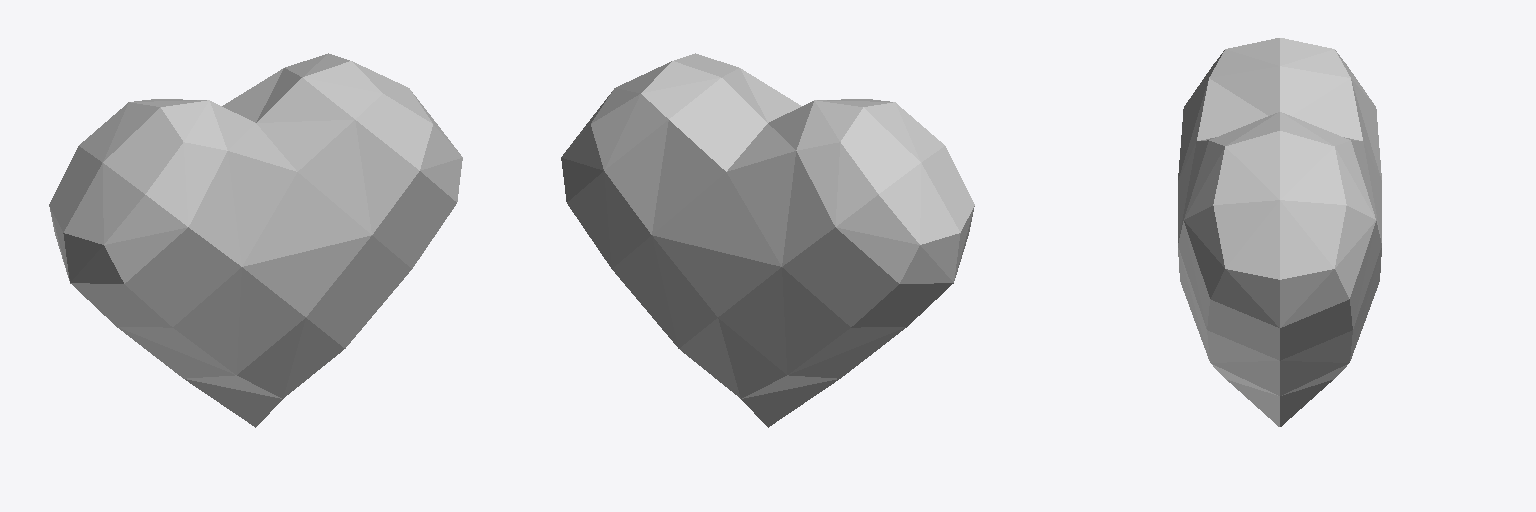
File: Heart.obj
The picture shows the model from 3 angles: view 1: azimuth 30°, elevation 25°; view 2: azimuth 150°, elevation 25°; view 3: azimuth 270°, elevation 25°; orthographic projection.
Parts seen in each view (by area): view 1: Cube_Cube.001; view 2: Cube_Cube.001; view 3: Cube_Cube.001.
Boxes of the visible parts, x1=… form: Cube_Cube.001: x1=49, y1=53, x2=462, y2=427; Cube_Cube.001: x1=561, y1=53, x2=974, y2=427; Cube_Cube.001: x1=1178, y1=38, x2=1381, y2=426.
Size of the model in its own units: 3.41 by 2.91 by 1.57.